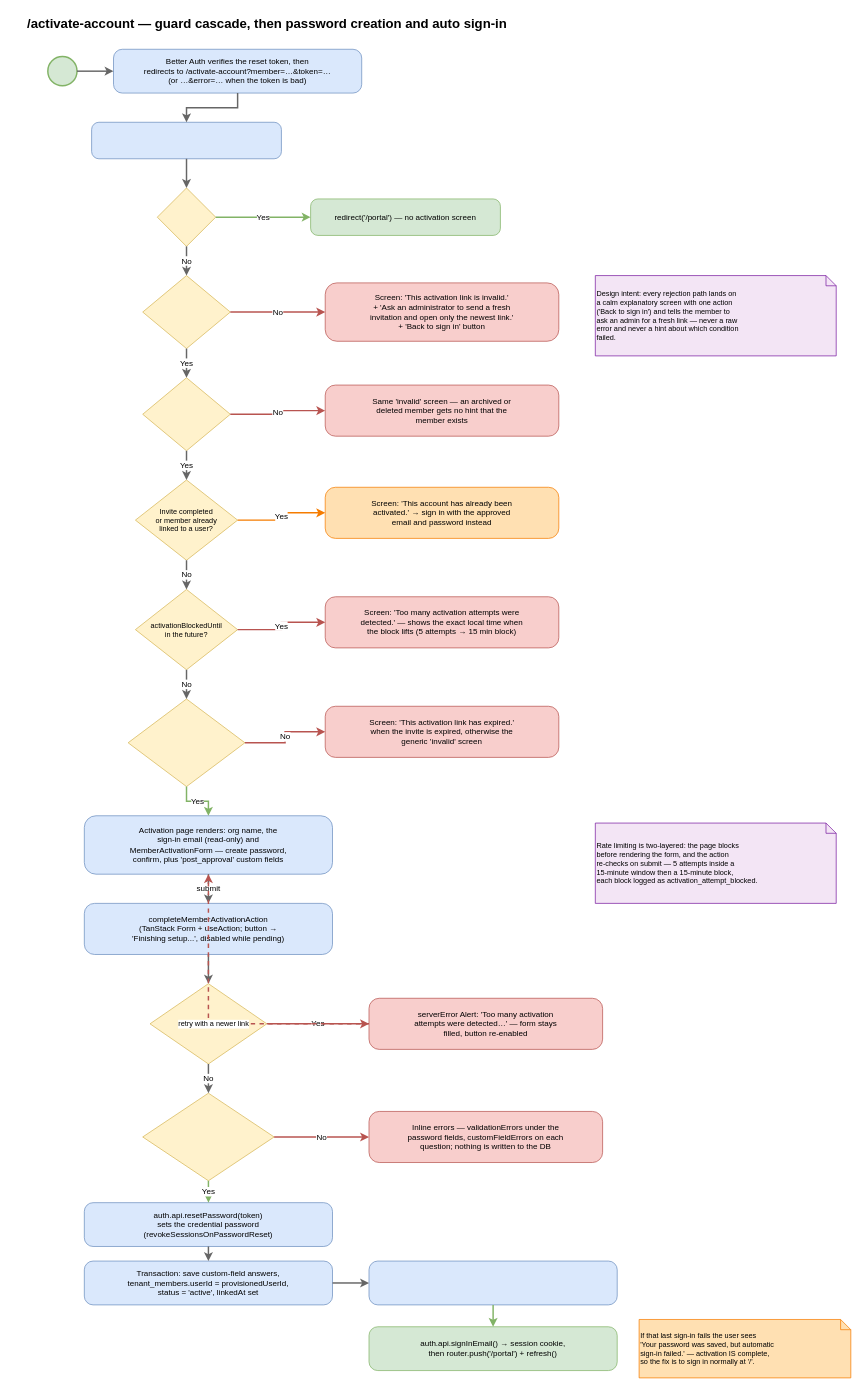
The diagram is 864 pixels wide and 1391 high, and some of its shapes have lost their labels. The centre of each missing label's shape, as x and y in pixels:
Already signed in?: point 186,216
generatePaymentForMember() + markMemberInviteCompleted() (invite_completed): point 492,1282
getValidMemberInvite (hashed token matches, not expired)?: point 186,742
markMemberInviteExpiredIfNeeded() then the guard cascade below: point 186,140
member + token present and no ?error?: point 186,312
Member clicks the invite link: point 62,70
Member status is invited or active?: point 186,414
registerActivationAttempt() blocked?: point 208,1023
Zod (password ≥ 12, passwords match) + custom field validation OK?: point 208,1136
